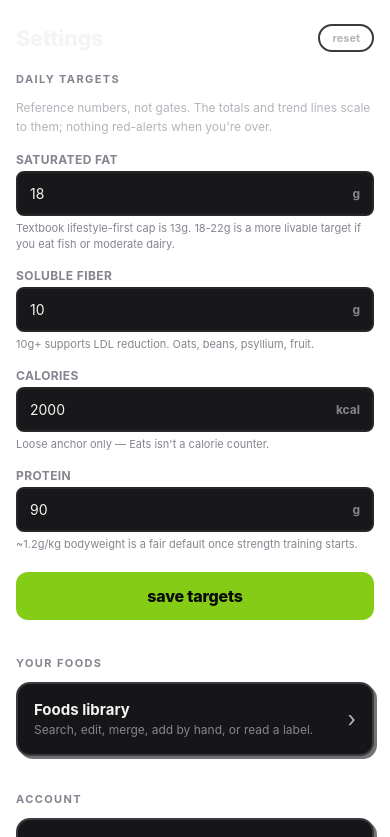
SettingsScreen › saves edited targets via the API
Replace the text in the field named "Saturated fat target" with "16" at [189, 194], box x1=30 y1=173 x2=348 y2=214
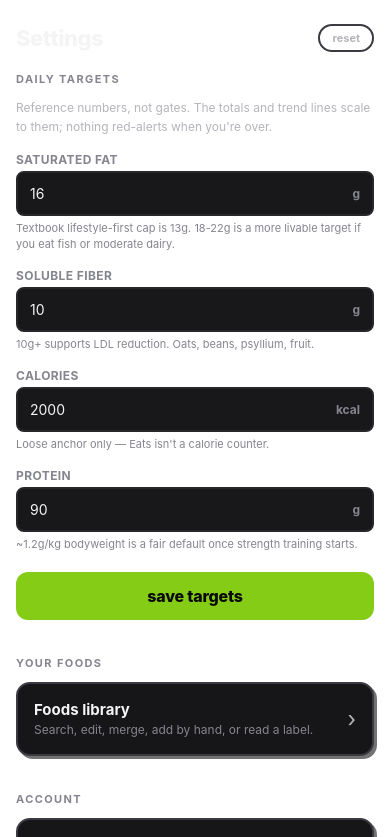
Click the text "save targets" at [195, 596], box x1=147 y1=586 x2=243 y2=606
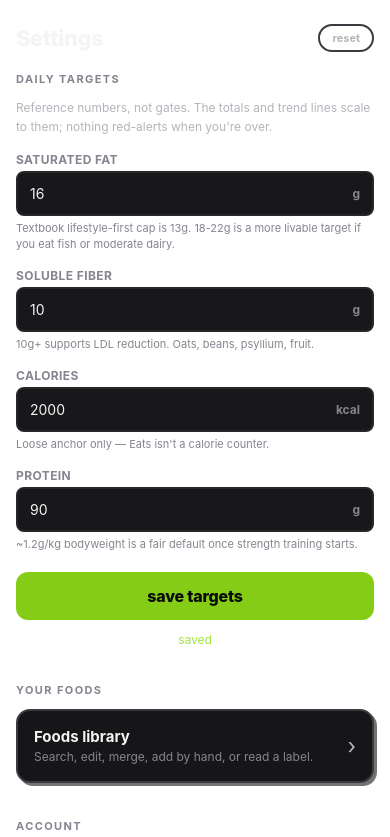
Check: the text "saved" is shown, box x1=178 y1=632 x2=212 y2=647
